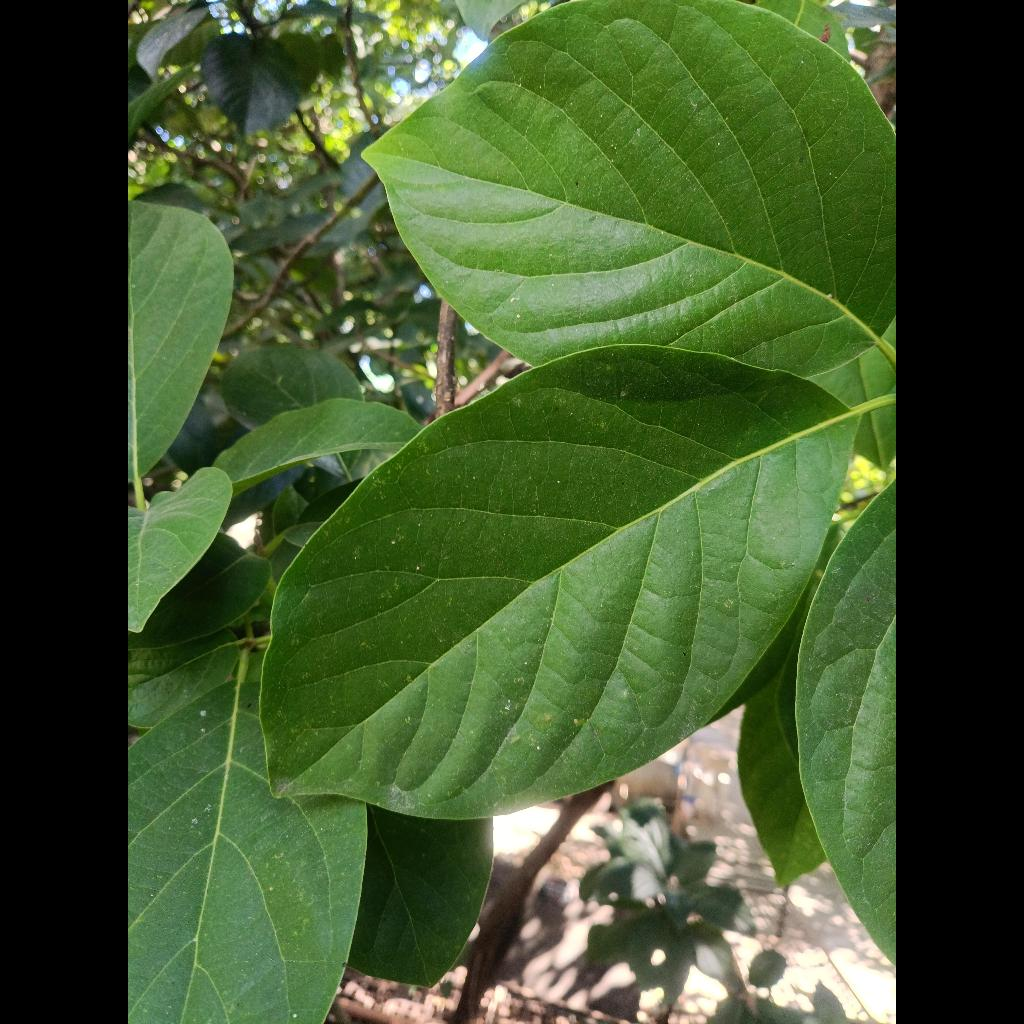hoja_sana: (261, 345, 856, 819), (372, 0, 896, 376)
